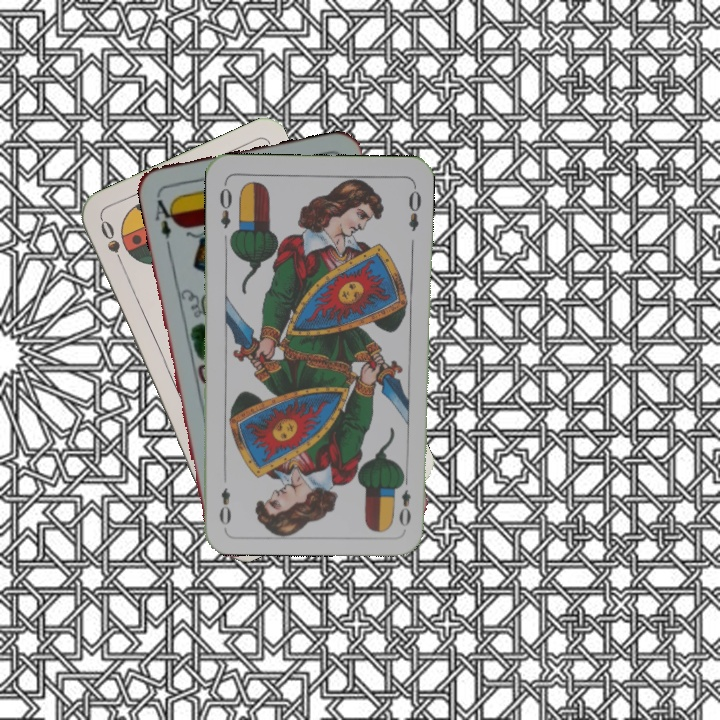EA: (151, 190, 179, 249)
EO: (395, 471, 413, 529), (215, 179, 234, 231)
SO: (96, 216, 128, 272)
